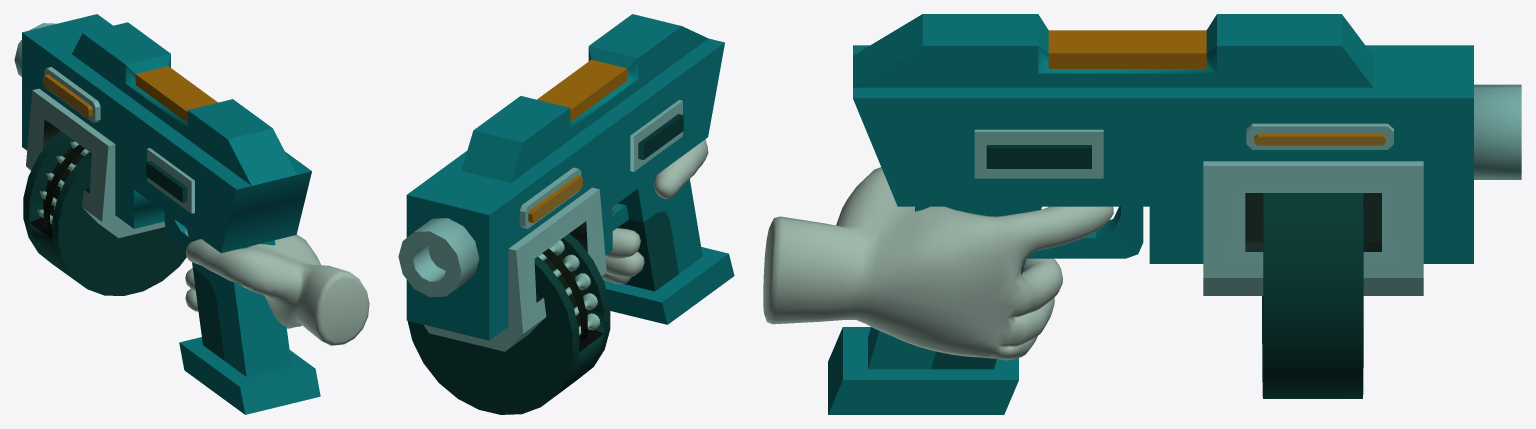
The model's file is bigGun.fbx.
3 renders of one model, left to right at view 1: azimuth 30°, elevation 25°; view 2: azimuth 150°, elevation 25°; view 3: azimuth 270°, elevation 25°, orthographic. The views are drawn at different scales.
Parts seen in each view (by area): view 1: bigGun, hand; view 2: bigGun, hand; view 3: bigGun, hand.
Part boxes in pixels (left/top/right/bottom): bigGun: left=14, top=14, right=320, bottom=414; hand: left=185, top=234, right=369, bottom=345; bigGun: left=398, top=14, right=734, bottom=414; hand: left=602, top=139, right=708, bottom=284; bigGun: left=828, top=14, right=1521, bottom=414; hand: left=763, top=167, right=1113, bottom=360.
Bounding box in the file's own units: 105 × 165 × 316.
